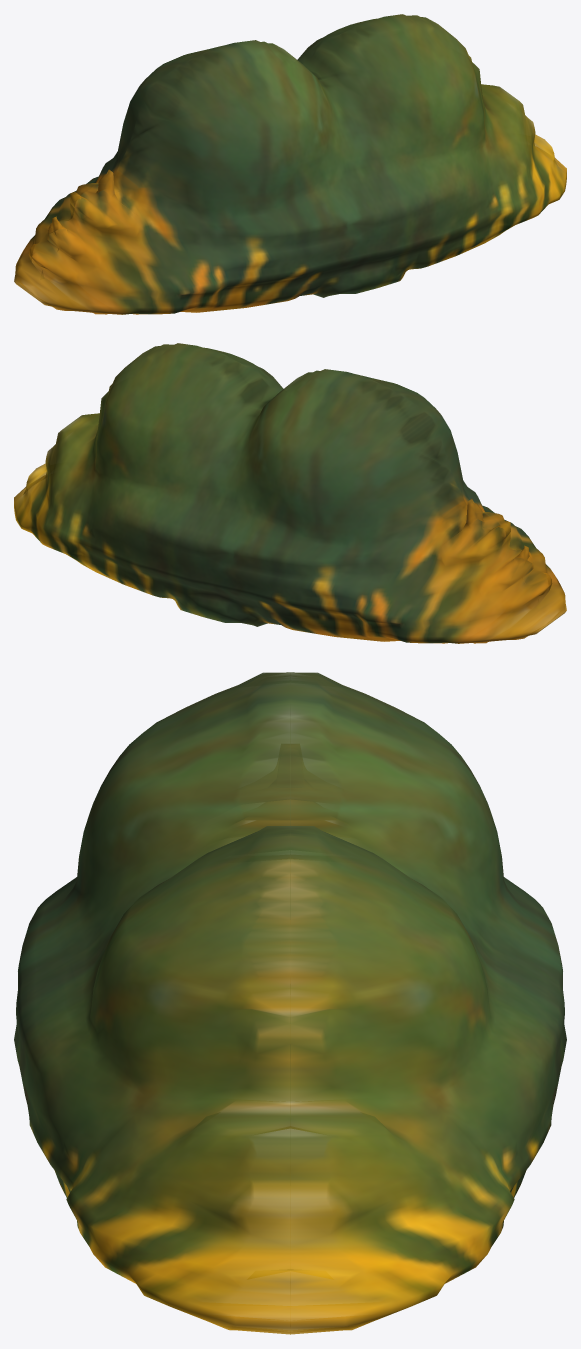
Rendered from 01_rocks_and_bushes_r02_c04.glb.
3 renders of one model, top to bottom at view 1: azimuth 30°, elevation 25°; view 2: azimuth 150°, elevation 25°; view 3: azimuth 270°, elevation 25°, orthographic. The views are drawn at different scales.
Parts seen in each view (by area): view 1: 01_rocks_and_bushes_r02_c04; view 2: 01_rocks_and_bushes_r02_c04; view 3: 01_rocks_and_bushes_r02_c04.
Boxes of the visible parts, x1,y1,x2,y2 form: 01_rocks_and_bushes_r02_c04: [14, 14, 566, 314]; 01_rocks_and_bushes_r02_c04: [14, 343, 566, 643]; 01_rocks_and_bushes_r02_c04: [14, 672, 566, 1334].
Bounding box in the file's own units: 2.23 × 0.8899 × 1.11.
Materials: 1 (1 with a texture image).
